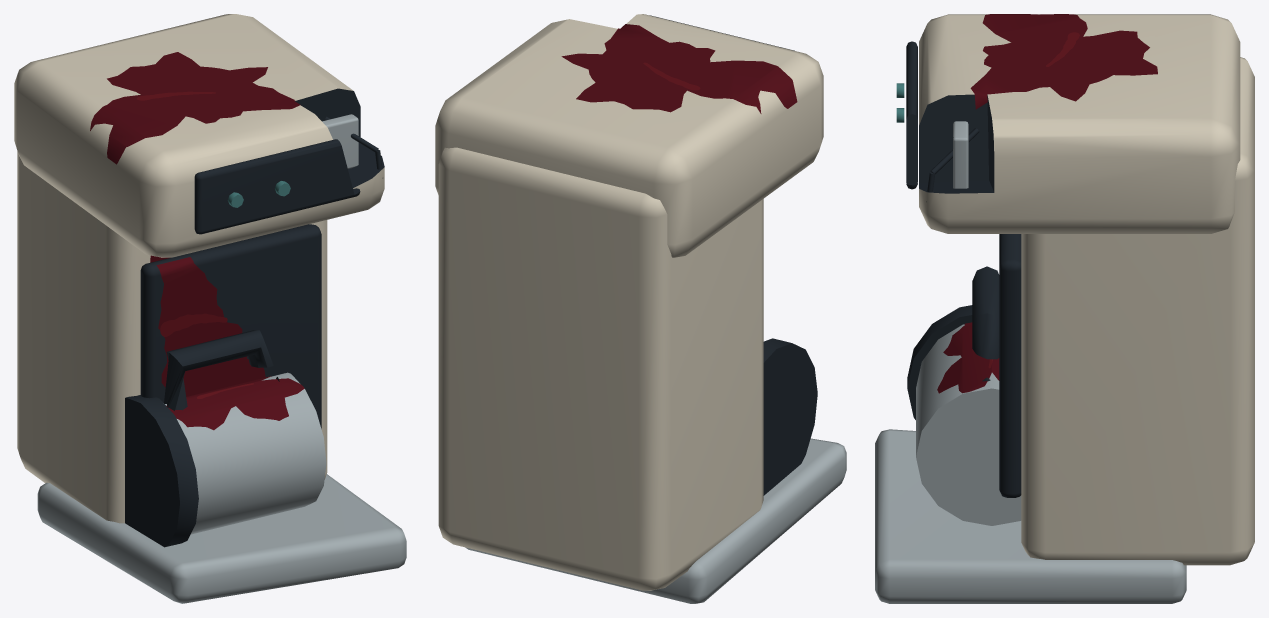
Rendered from coffee_machine.glb.
The picture shows the model from 3 angles, left to right: view 1: azimuth 30°, elevation 25°; view 2: azimuth 150°, elevation 25°; view 3: azimuth 270°, elevation 25°; orthographic projection. The views are drawn at different scales.
Visible parts, largest first — view 1: Outbreak_11_standard_coffee_machine_Static; view 2: Outbreak_11_standard_coffee_machine_Static; view 3: Outbreak_11_standard_coffee_machine_Static.
Boxes of the visible parts, box(x1,y1,x2,y2) form: Outbreak_11_standard_coffee_machine_Static: box(14, 14, 406, 603); Outbreak_11_standard_coffee_machine_Static: box(435, 14, 846, 603); Outbreak_11_standard_coffee_machine_Static: box(875, 14, 1254, 603).
Bounding box in the file's own units: 0.31 × 0.5457 × 0.39.
